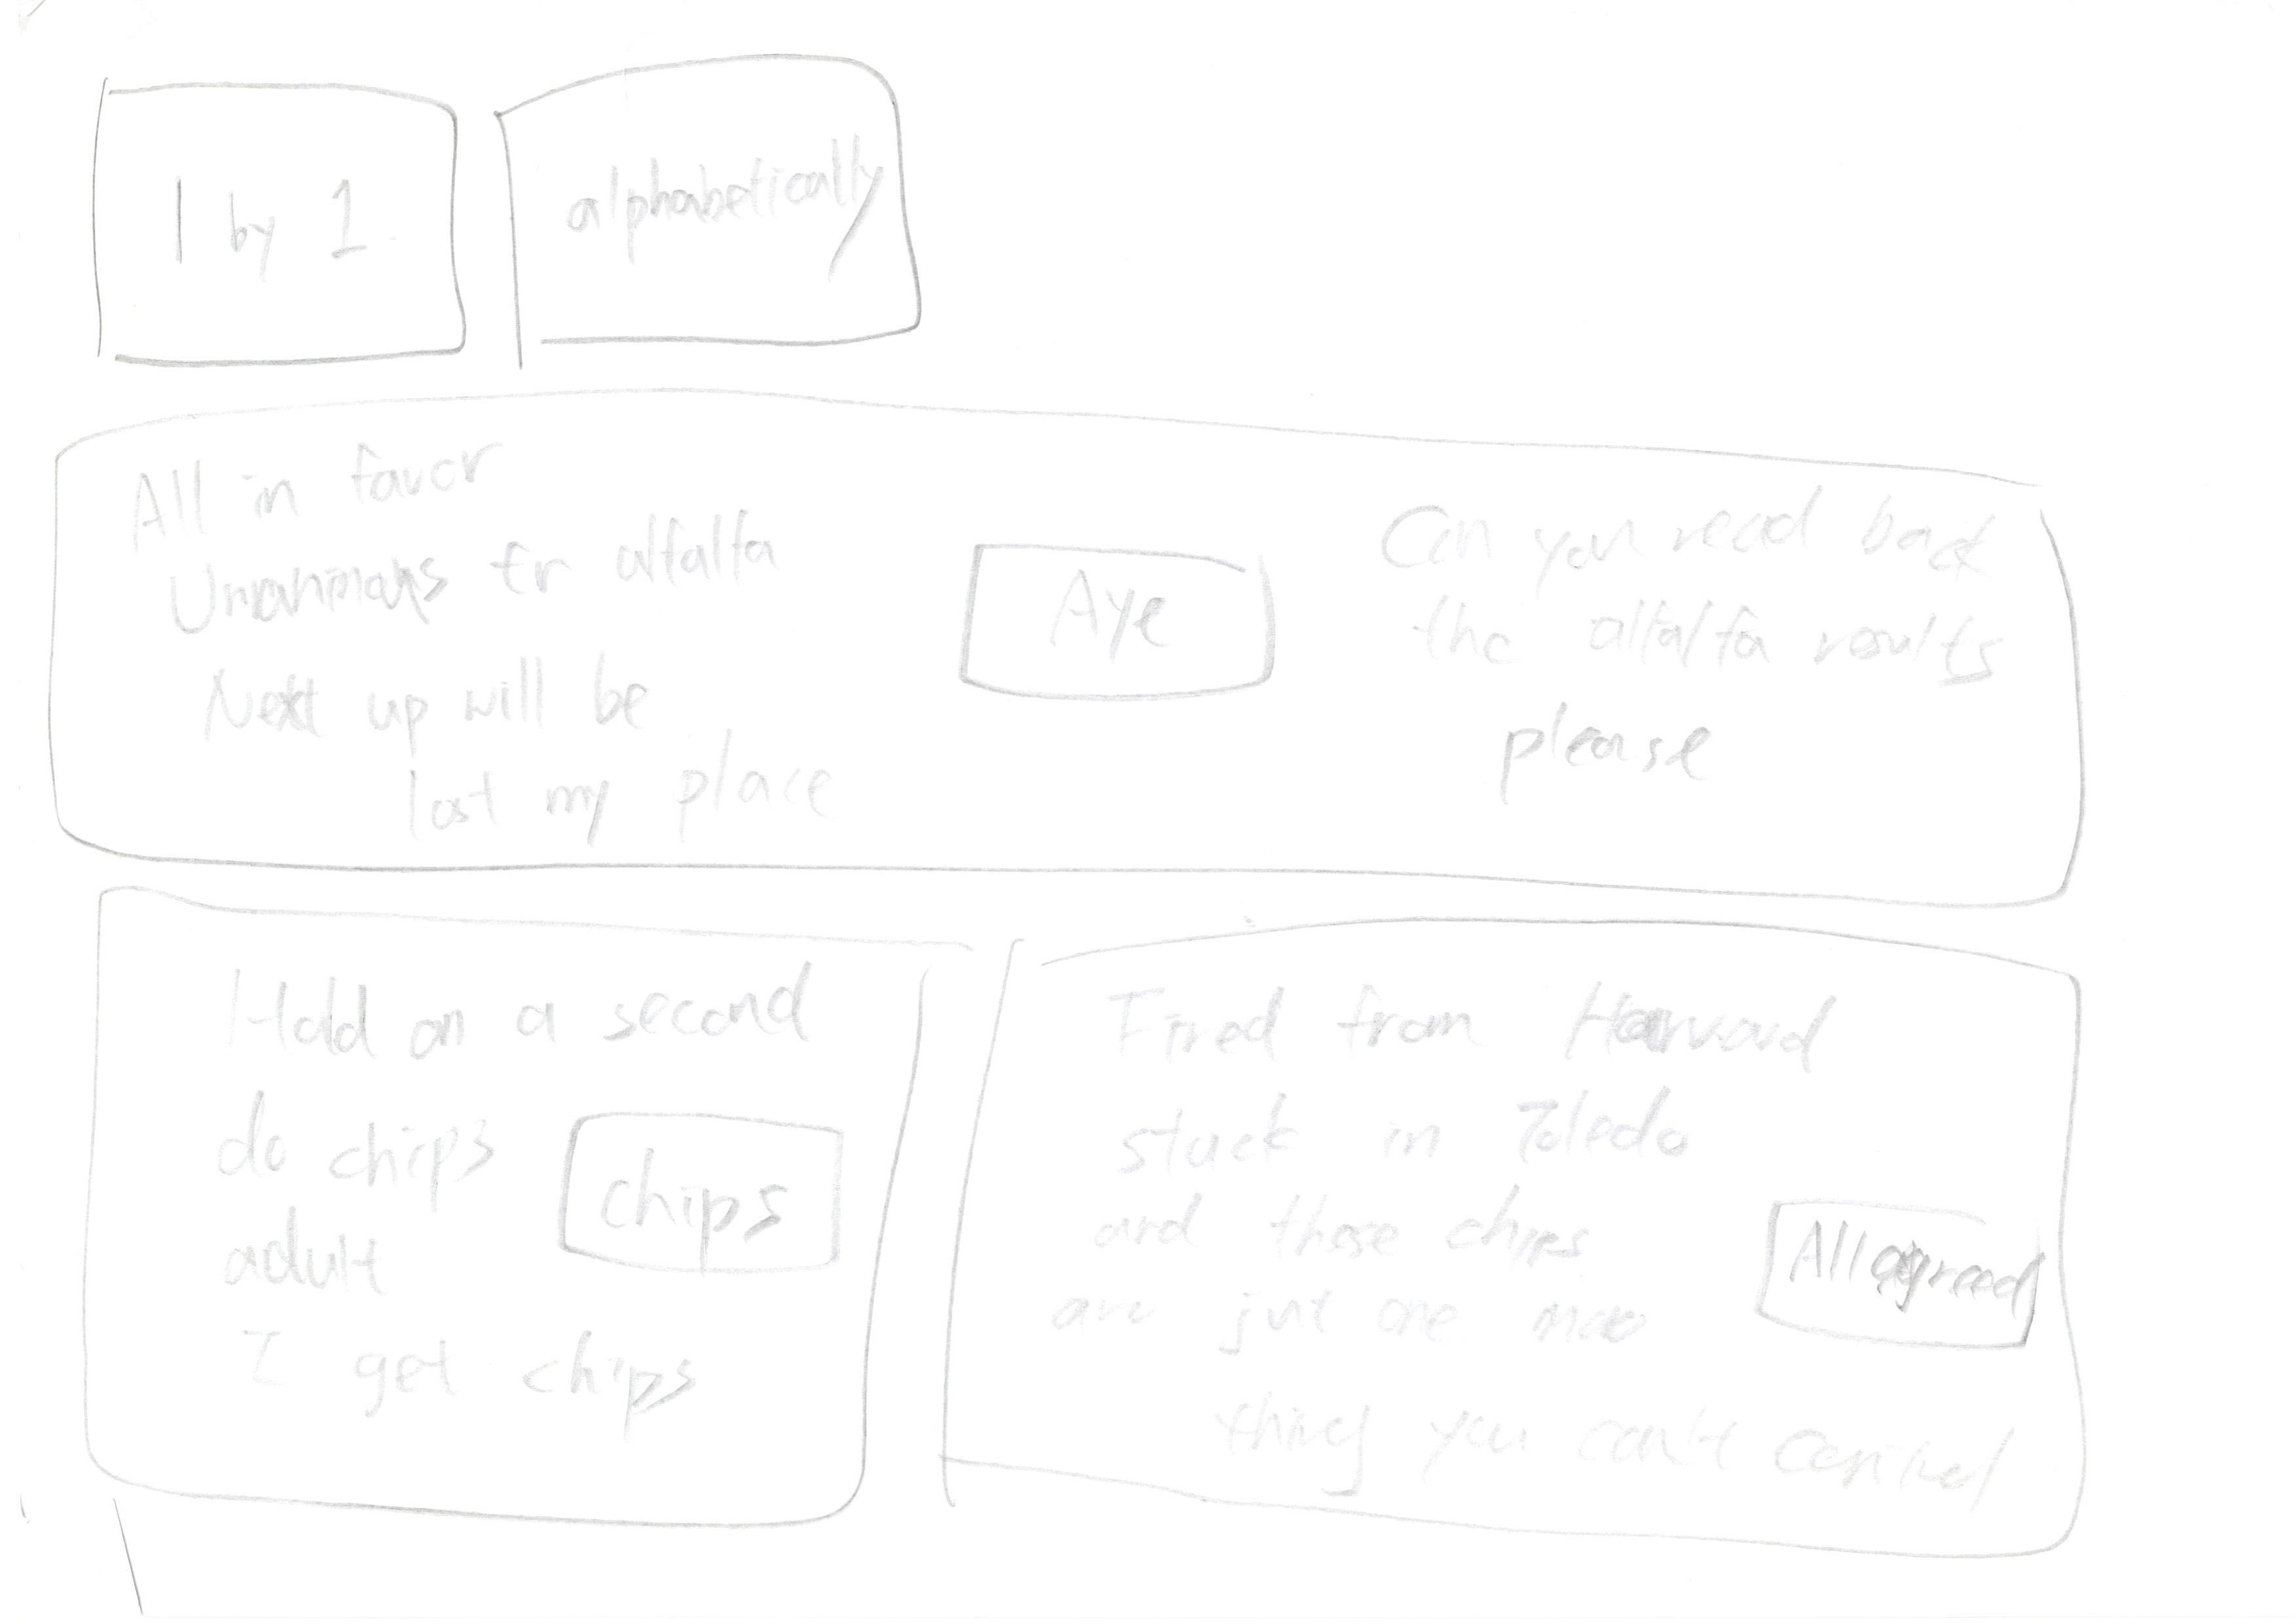btn-active: (457, 35, 988, 380), (60, 65, 503, 385), (912, 515, 1352, 758), (508, 1081, 876, 1306), (1721, 1167, 2080, 1378)
double: (918, 896, 2206, 1582), (14, 852, 997, 1612)
row: (0, 849, 2296, 1594), (0, 392, 2296, 928), (11, 19, 2273, 408)
single: (0, 380, 2234, 939)
text: (1021, 963, 1700, 1480), (104, 432, 853, 826), (1370, 466, 2024, 828), (190, 1081, 510, 1429), (192, 949, 856, 1084), (274, 1338, 781, 1475)
